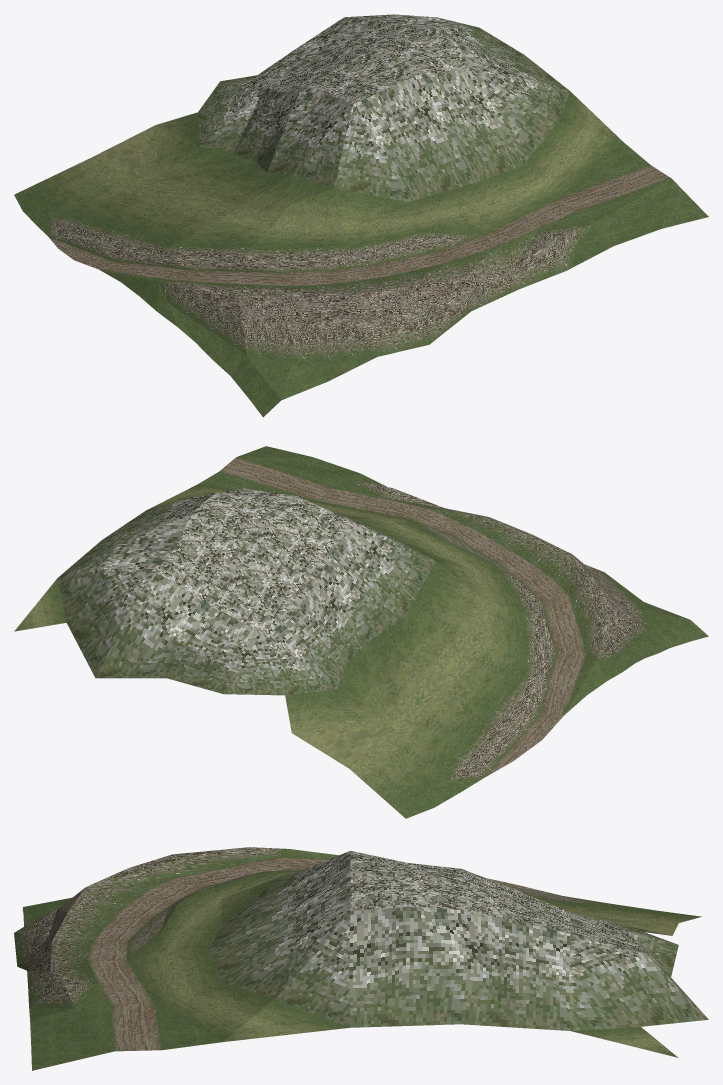
Rendered from lodcendpalcst03.obj.
3 renders of one model, top to bottom at view 1: azimuth 30°, elevation 25°; view 2: azimuth 150°, elevation 25°; view 3: azimuth 270°, elevation 25°, orthographic. The views are drawn at different scales.
Visible parts, largest first — view 1: LODCEndPALCST03; view 2: LODCEndPALCST03; view 3: LODCEndPALCST03.
Boxes of the visible parts, box(x1,y1,x2,y2) form: LODCEndPALCST03: box(14, 14, 708, 417); LODCEndPALCST03: box(14, 446, 708, 818); LODCEndPALCST03: box(14, 847, 708, 1070).
Bounding box in the file's own units: 258 × 93.72 × 278.
Materials: 8 (8 with a texture image).
